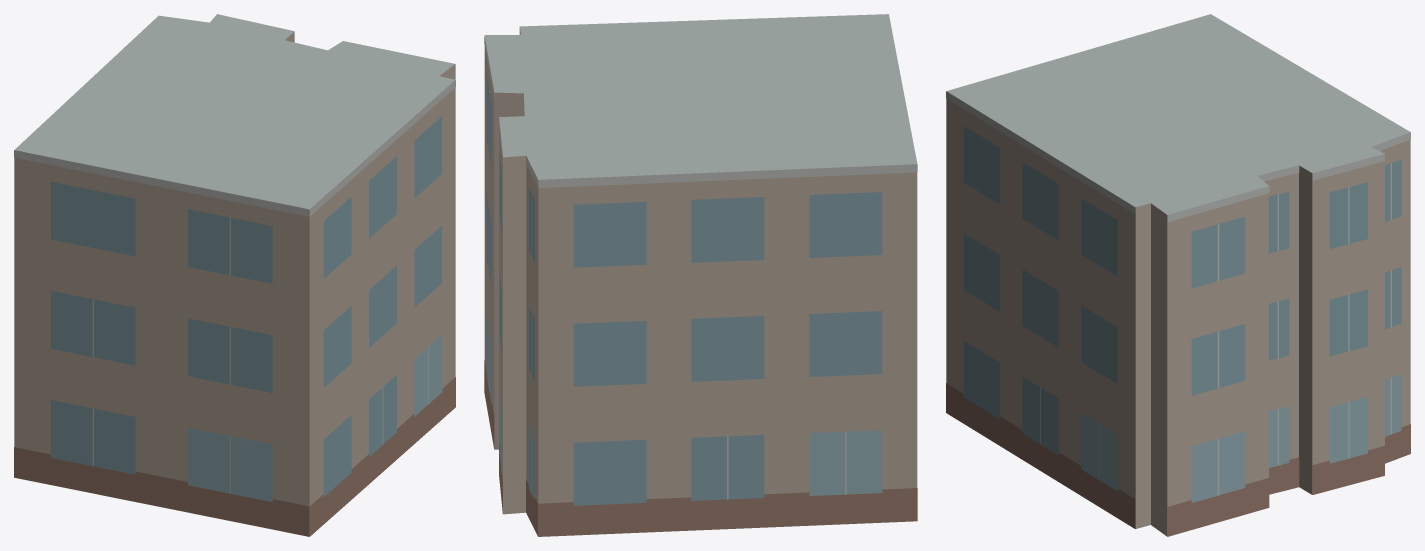
Rendered from survey-upis-32492358.glb.
3 views of the same model, side by side, from view 1: azimuth 30°, elevation 25°; view 2: azimuth 150°, elevation 25°; view 3: azimuth 270°, elevation 25° (orthographic). The views are drawn at different scales.
Parts seen in each view (by area): view 1: survey-upis-32492358.tmp; view 2: survey-upis-32492358.tmp; view 3: survey-upis-32492358.tmp.
Boxes of the visible parts, x1,y1,x2,y2 form: survey-upis-32492358.tmp: [14, 14, 455, 536]; survey-upis-32492358.tmp: [484, 14, 917, 536]; survey-upis-32492358.tmp: [946, 14, 1410, 536].
Bounding box in the file's own units: 14.33 × 10.69 × 13.99.
